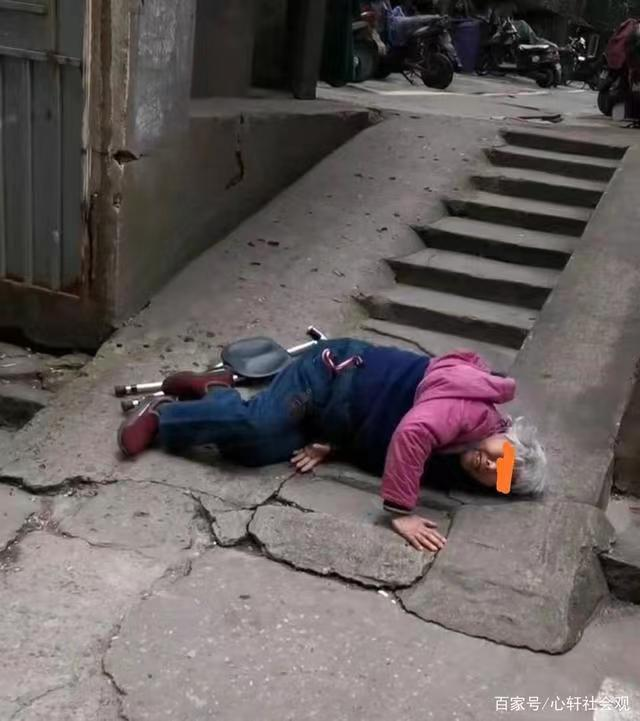down: (106, 320, 573, 557)
